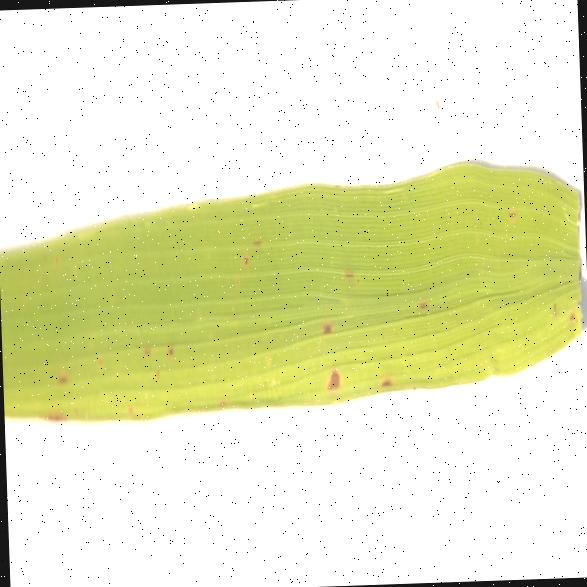Brown_Spot: (310, 281, 353, 400), (236, 214, 266, 272), (136, 339, 180, 368), (376, 347, 395, 406), (414, 288, 437, 320), (54, 354, 69, 396)
